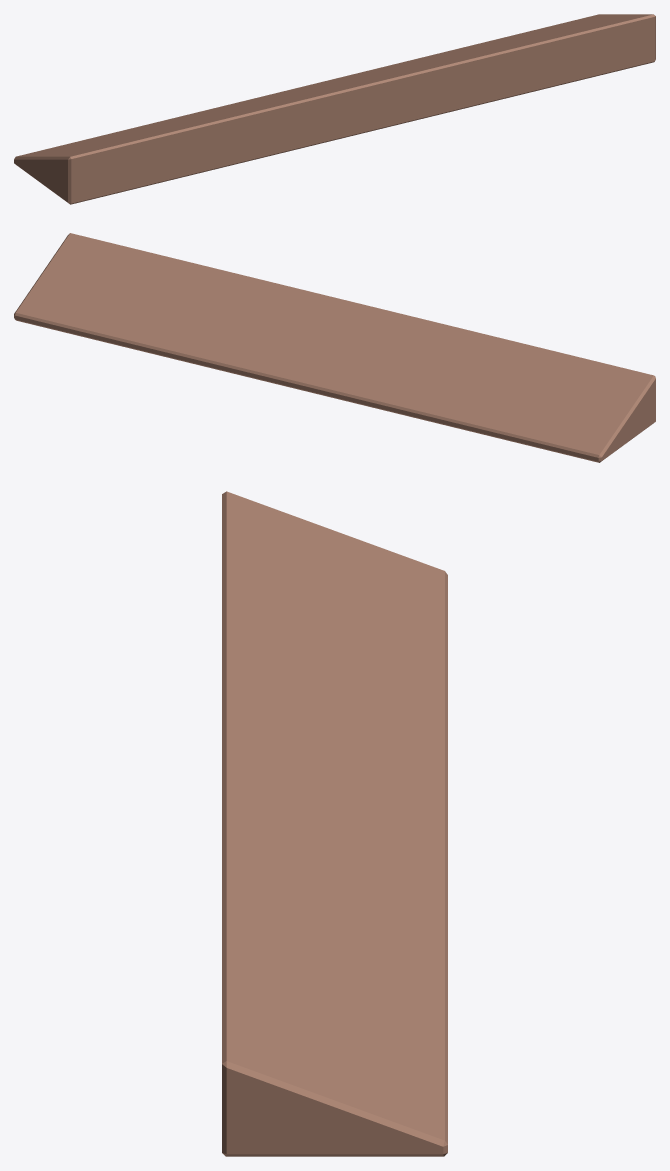
The model's file is mesh_lilRampMod.fbx.
3 views of the same model, one above another, from view 1: azimuth 30°, elevation 25°; view 2: azimuth 150°, elevation 25°; view 3: azimuth 270°, elevation 25° (orthographic). The views are drawn at different scales.
Parts seen in each view (by area): view 1: mesh_lilRampMod; view 2: mesh_lilRampMod; view 3: mesh_lilRampMod.
Boxes of the visible parts, <box> form: mesh_lilRampMod: <box>14,14,655,204</box>; mesh_lilRampMod: <box>14,233,655,462</box>; mesh_lilRampMod: <box>222,491,447,1156</box>.
Size of the model in its own units: 30 by 2.33 by 5.
